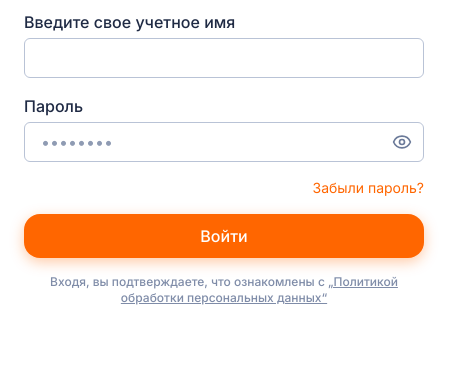
Scenario: LoginForm › Client-side Validation › should show validation error for password without uppercase
Step 1. Type "test@example.com" into the field labelled "Введите свое учетное имя" → (224, 58), box [24,38,424,78]
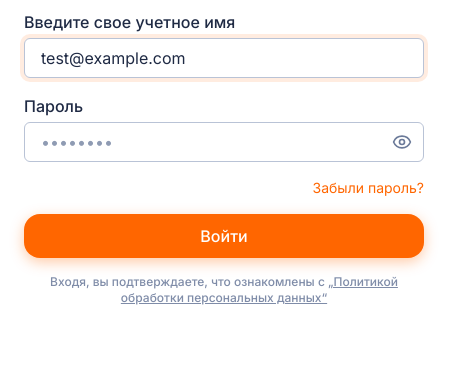
Step 2. Type "nouppercase123" into the password field labelled "Пароль" → (224, 142), box [24,122,424,162]
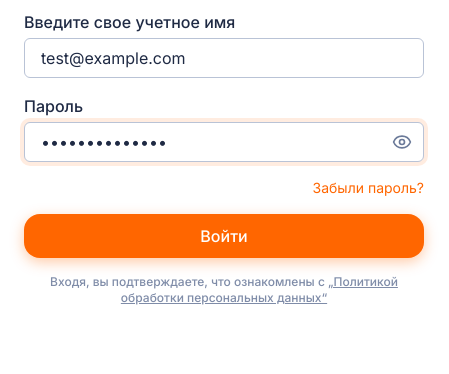
Step 3. Click the button "Войти" → click(224, 236), box [24,214,424,258]
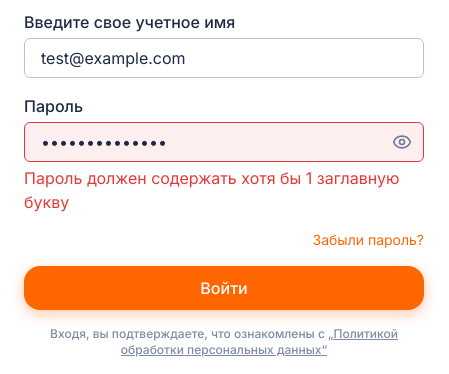
Result: the text "Пароль должен содержать хотя бы 1 заглавную букву" is shown at [24,166,424,214]
